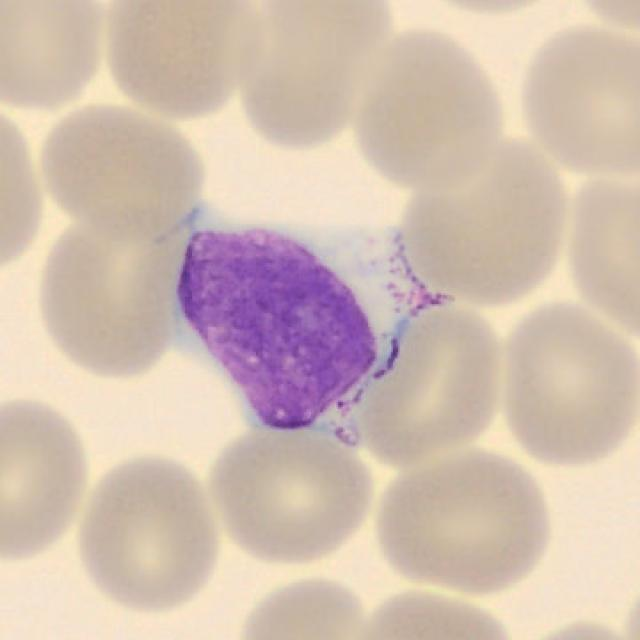Linfocito atipico: (176, 210, 453, 446)
